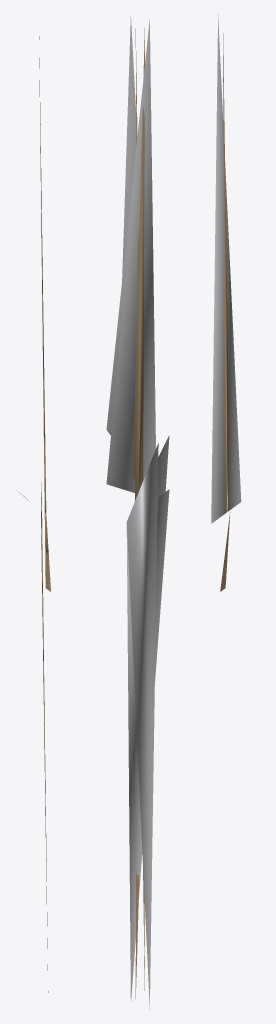
File: equip_weapon_iron_axe.glb
The picture shows the model from 3 angles, left to right: view 1: azimuth 30°, elevation 25°; view 2: azimuth 150°, elevation 25°; view 3: azimuth 330°, elevation 25°; orthographic projection.
Parts seen in each view (by area): view 1: equip_weapon_iron_axe; view 2: equip_weapon_iron_axe; view 3: equip_weapon_iron_axe.
Boxes of the visible parts, x1=… form: equip_weapon_iron_axe: x1=15, y1=36, x2=50, y2=992; equip_weapon_iron_axe: x1=106, y1=16, x2=169, y2=1009; equip_weapon_iron_axe: x1=211, y1=14, x2=241, y2=591.
Size of the model in its own units: 0.11 by 2 by 0.11.
